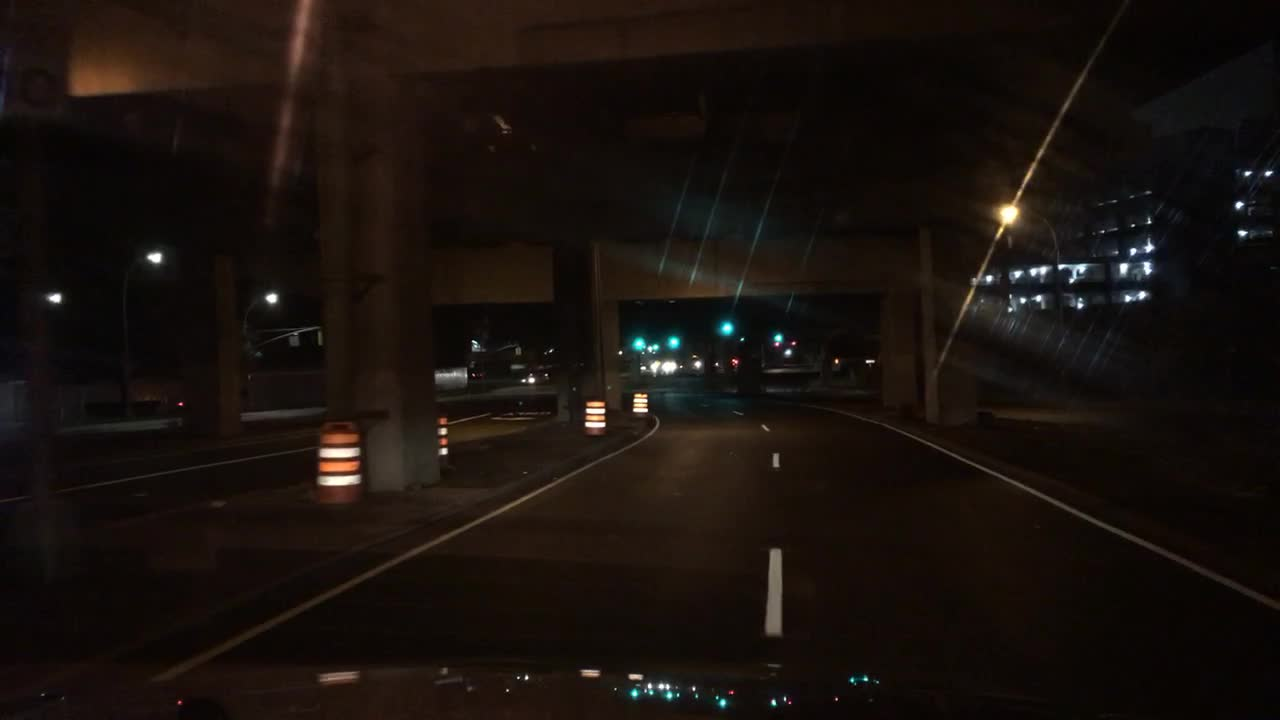car: (519, 370, 551, 386), (466, 365, 486, 381)
traffic light: (719, 316, 731, 333), (670, 333, 680, 348), (633, 334, 642, 350), (771, 330, 782, 341)
traffic sign: (289, 329, 300, 344)
